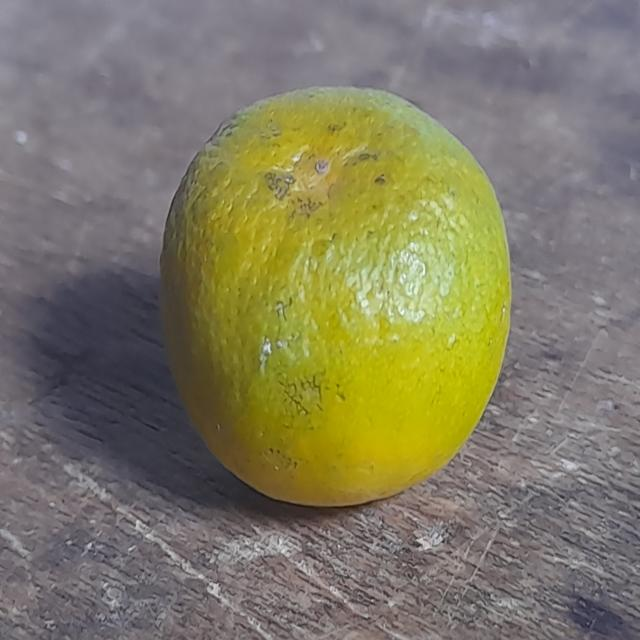greening: (151, 77, 514, 519)
